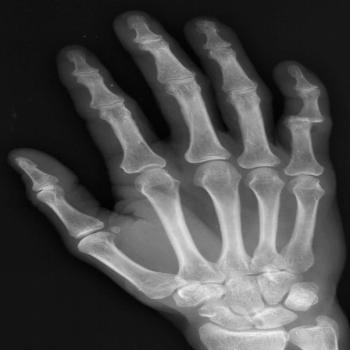Fracture: (284, 110, 333, 130)
